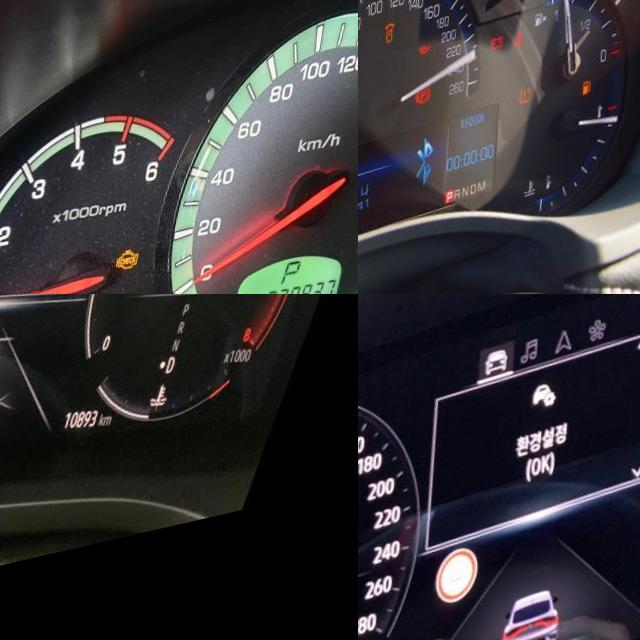Engine cooling system: (518, 48, 535, 69)
Low fuel level: (590, 102, 603, 120)
